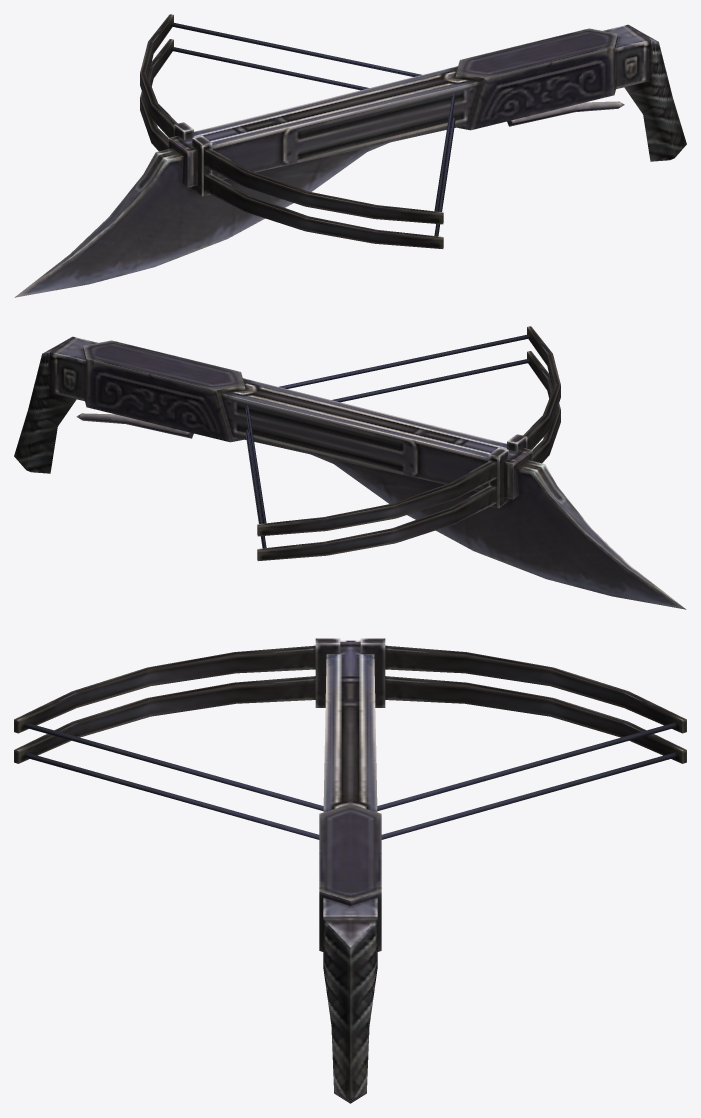
Rendered from Crossbow07.FBX.
3 renders of one model, top to bottom at view 1: azimuth 30°, elevation 25°; view 2: azimuth 150°, elevation 25°; view 3: azimuth 270°, elevation 25°, orthographic. The views are drawn at different scales.
Parts seen in each view (by area): view 1: Crossbow07; view 2: Crossbow07; view 3: Crossbow07.
Boxes of the visible parts, x1,y1,x2,y2 form: Crossbow07: (14,14,686,297); Crossbow07: (14,326,686,609); Crossbow07: (14,638,686,1103).
Bounding box in the file's own units: 119 × 24.2 × 83.85.
